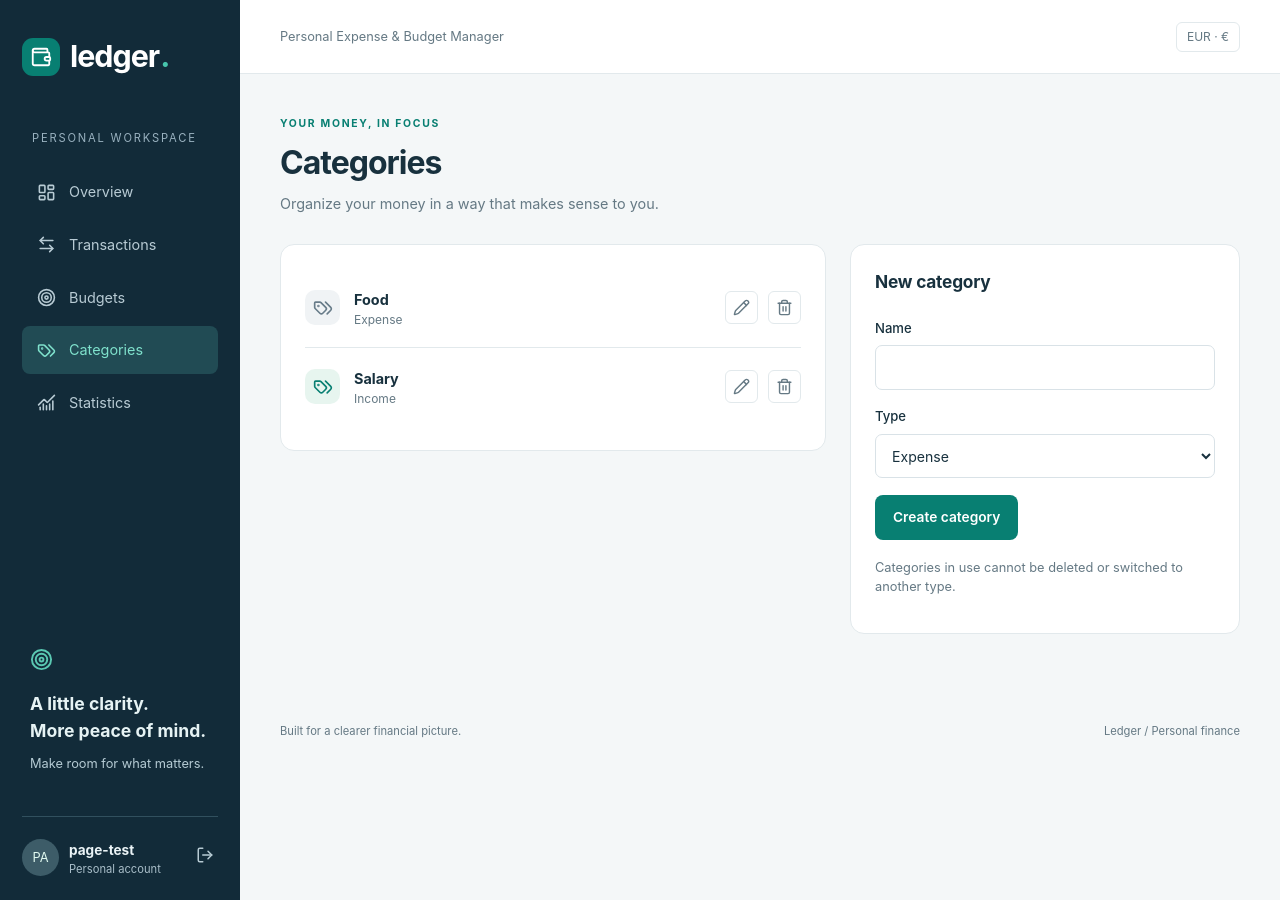
Test case: transaction and budget pages with MSW › shows category validation feedback and permits retrying a failed deletion
The width and height of the screenshot is (1280, 900).
Expected: the text "Food" is shown, x1=354 y1=291 x2=389 y2=308
Type "Food" into the field labelled "Name".
click(1045, 368); type("Food")  # box x1=875 y1=345 x2=1215 y2=390
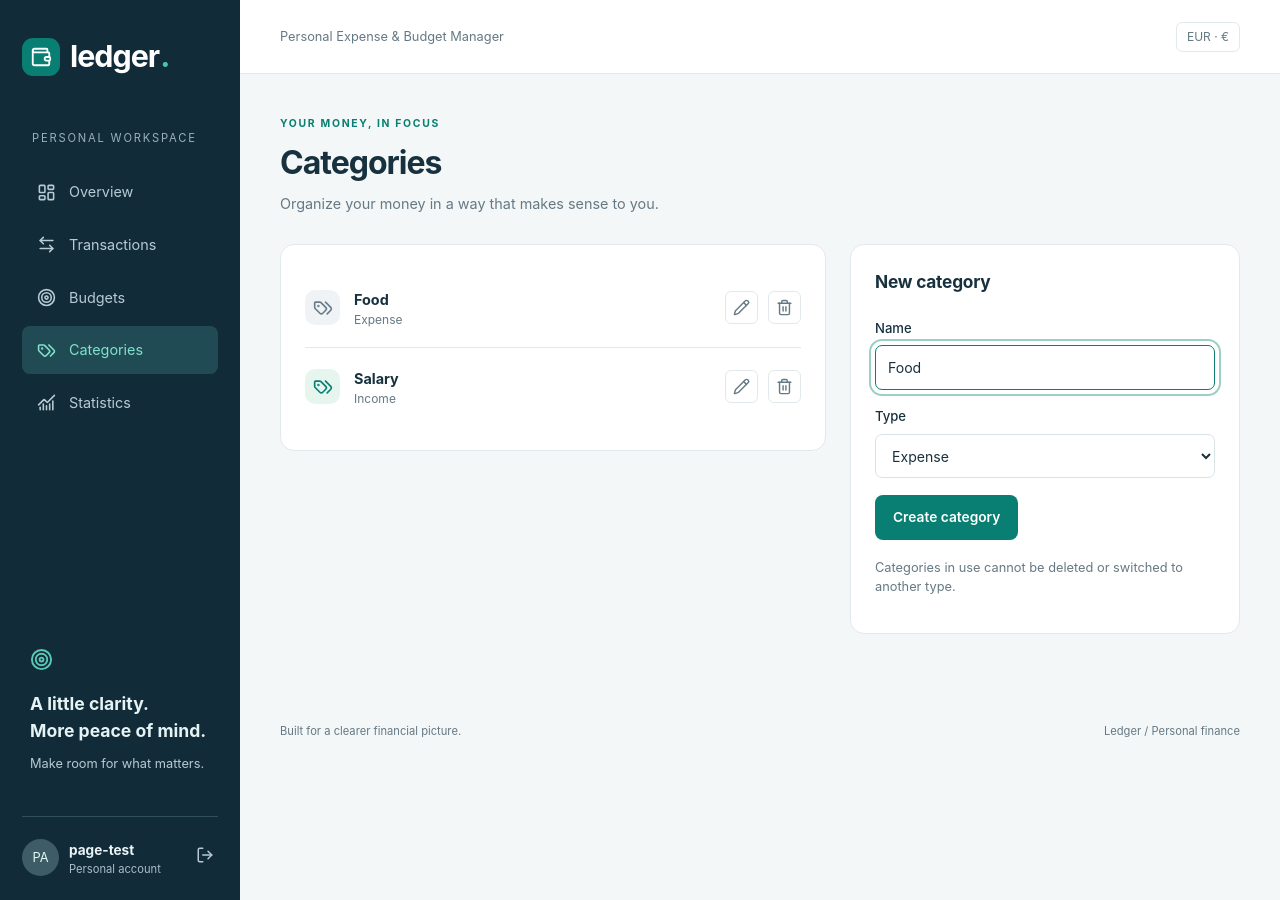
Click the button "Create category".
click(947, 517)  # box x1=875 y1=495 x2=1018 y2=540
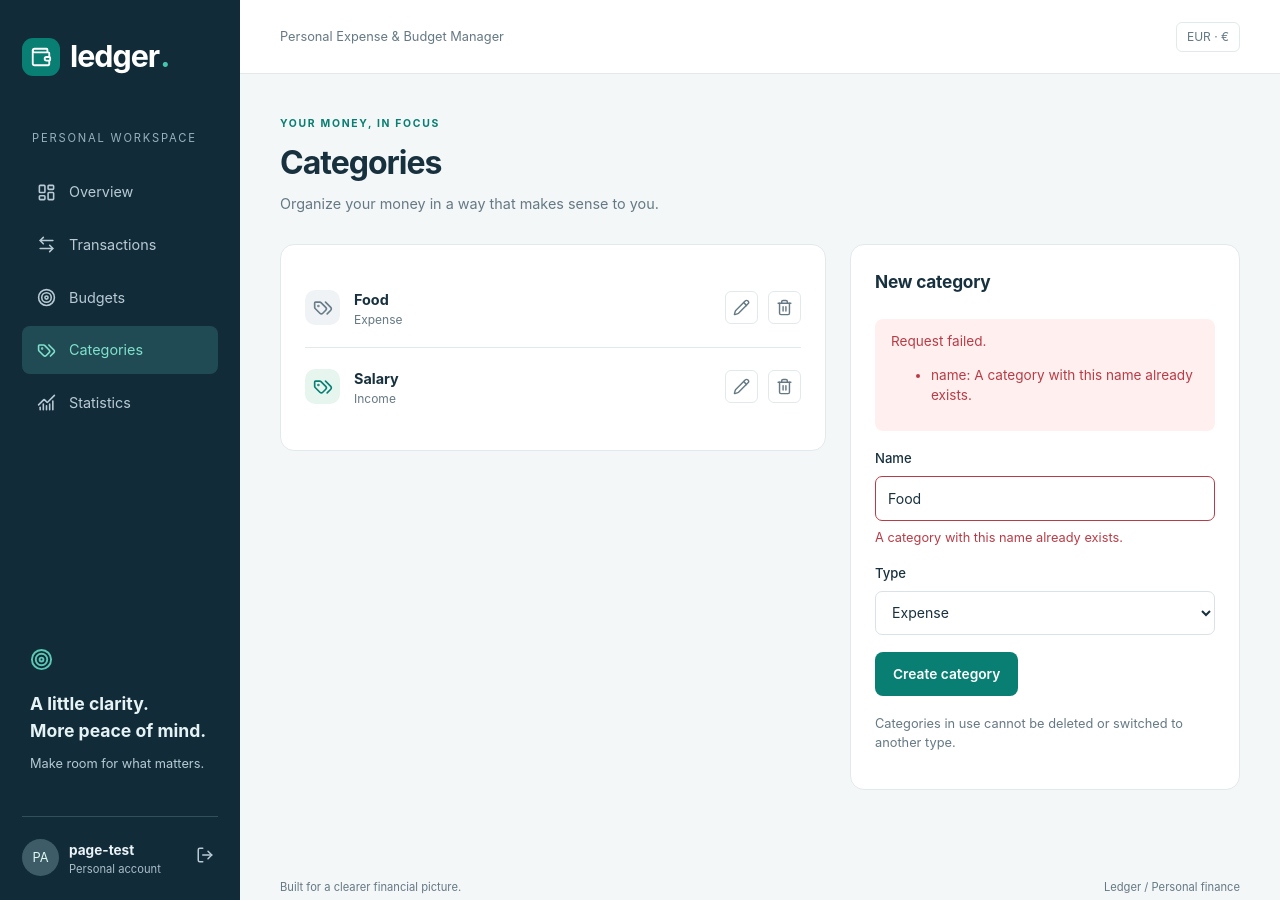
Expected: the text "A category with this name already exists." is shown, x1=875 y1=530 x2=1123 y2=545
Click the button named "Delete Food".
click(784, 308)  # box x1=768 y1=291 x2=801 y2=324
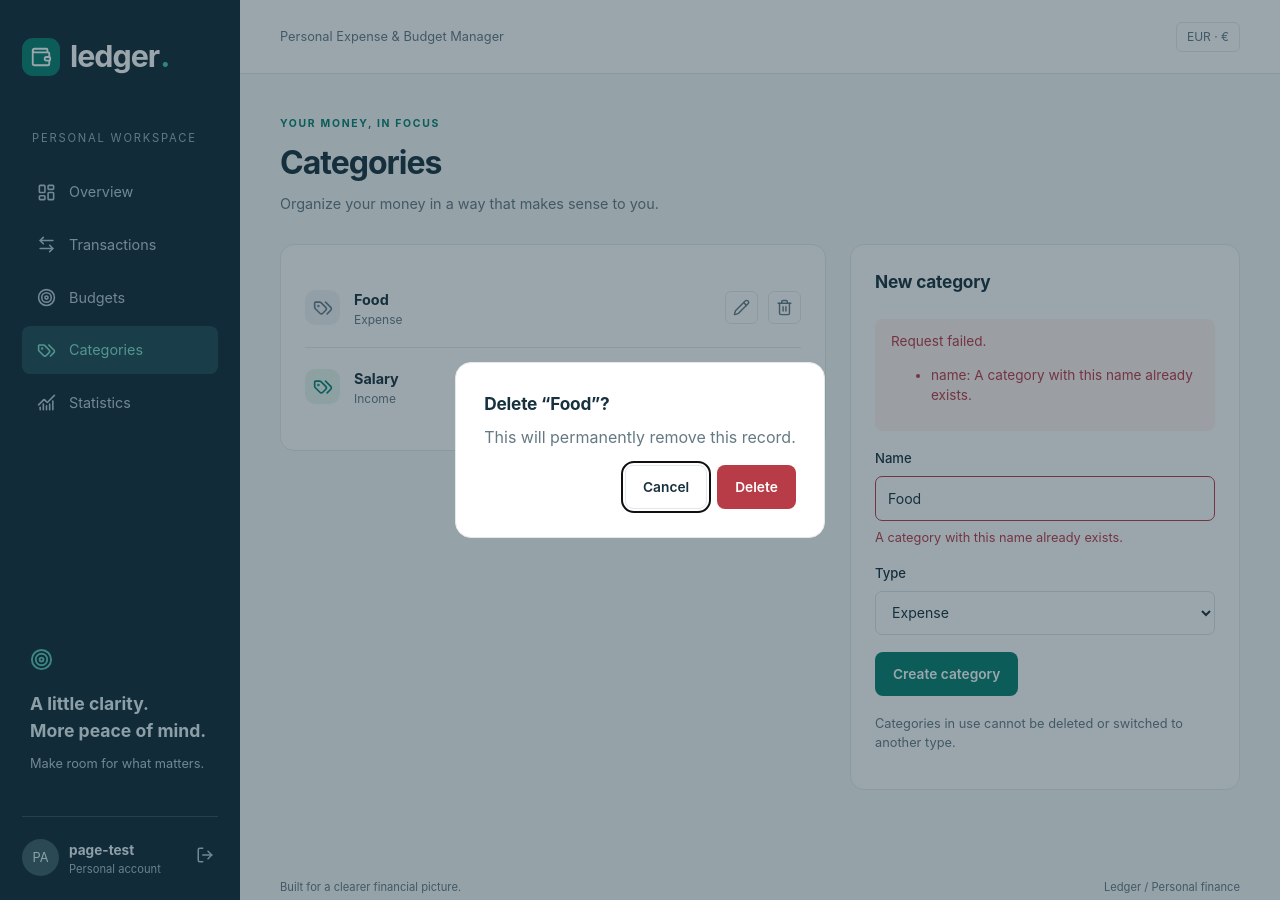
Click the button "Delete".
click(756, 487)  # box x1=717 y1=465 x2=796 y2=509
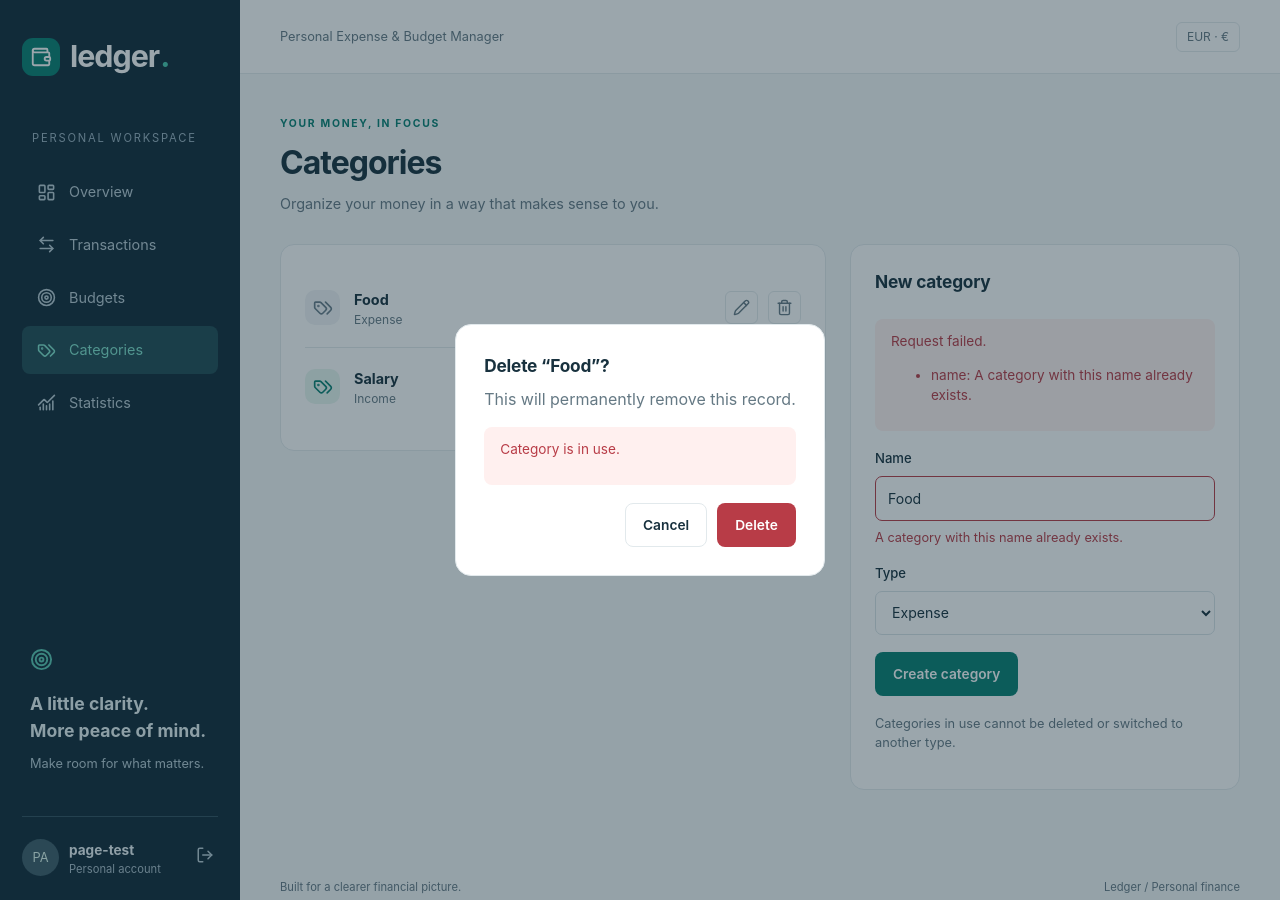
Expected: the message reads "Category is in use.", x1=500 y1=441 x2=620 y2=457
Click the button "Delete".
click(756, 525)  # box x1=717 y1=503 x2=796 y2=547
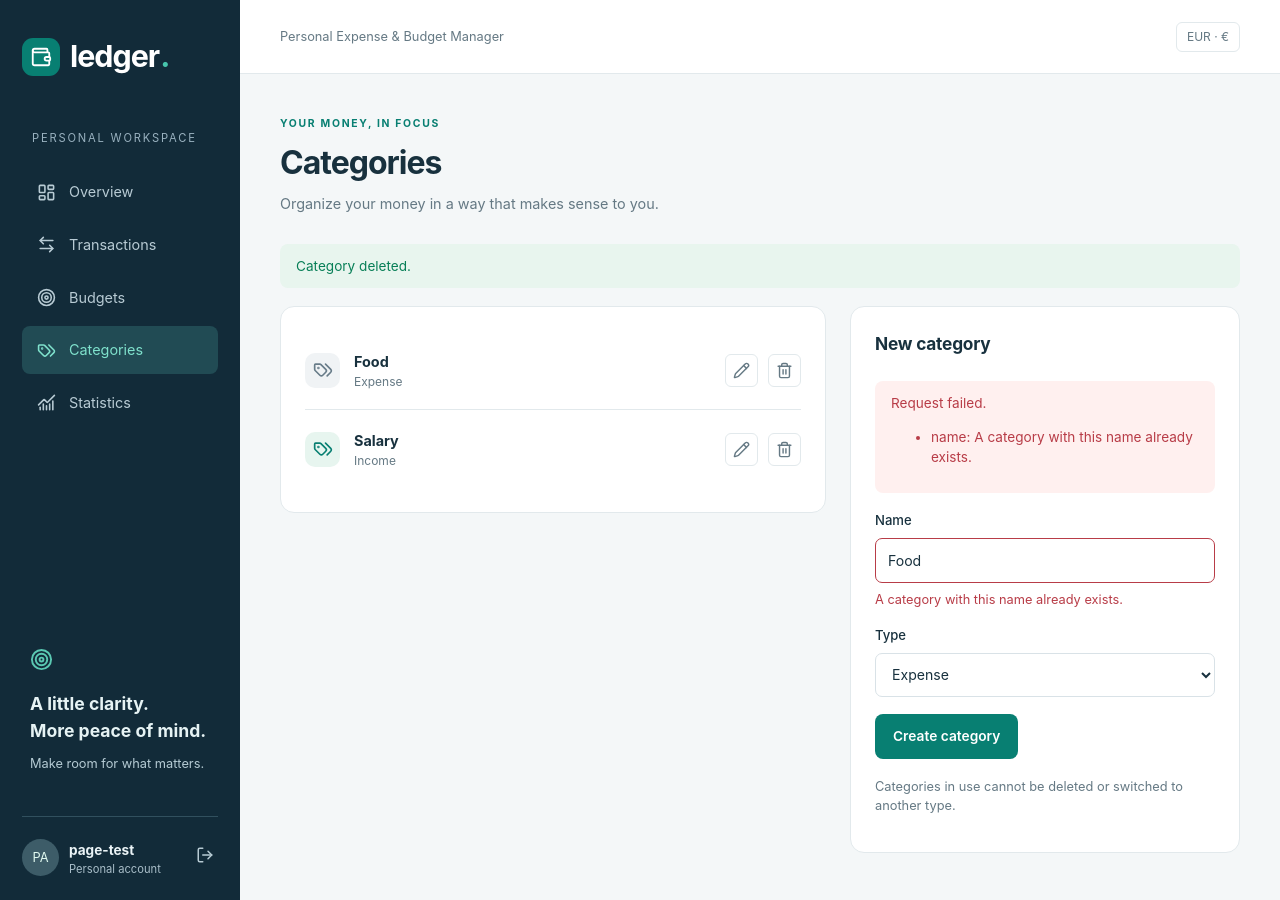
Expected: the message "Category deleted." is shown, x1=280 y1=244 x2=1240 y2=288
